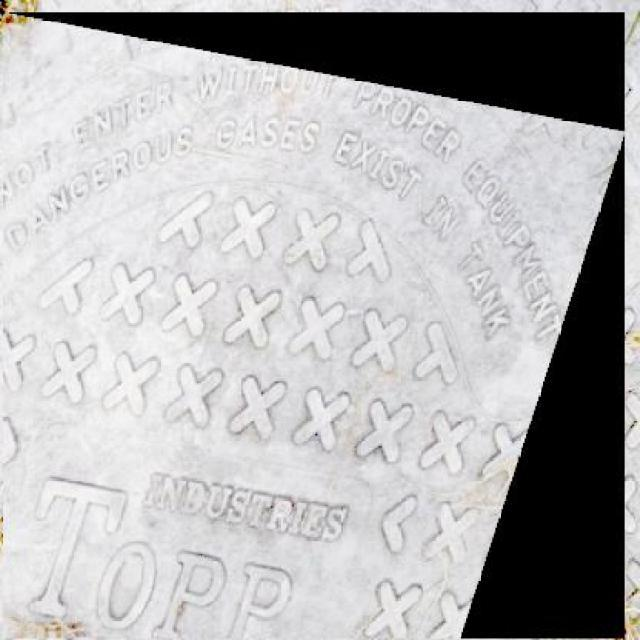Manhole: (3, 12, 625, 638)
